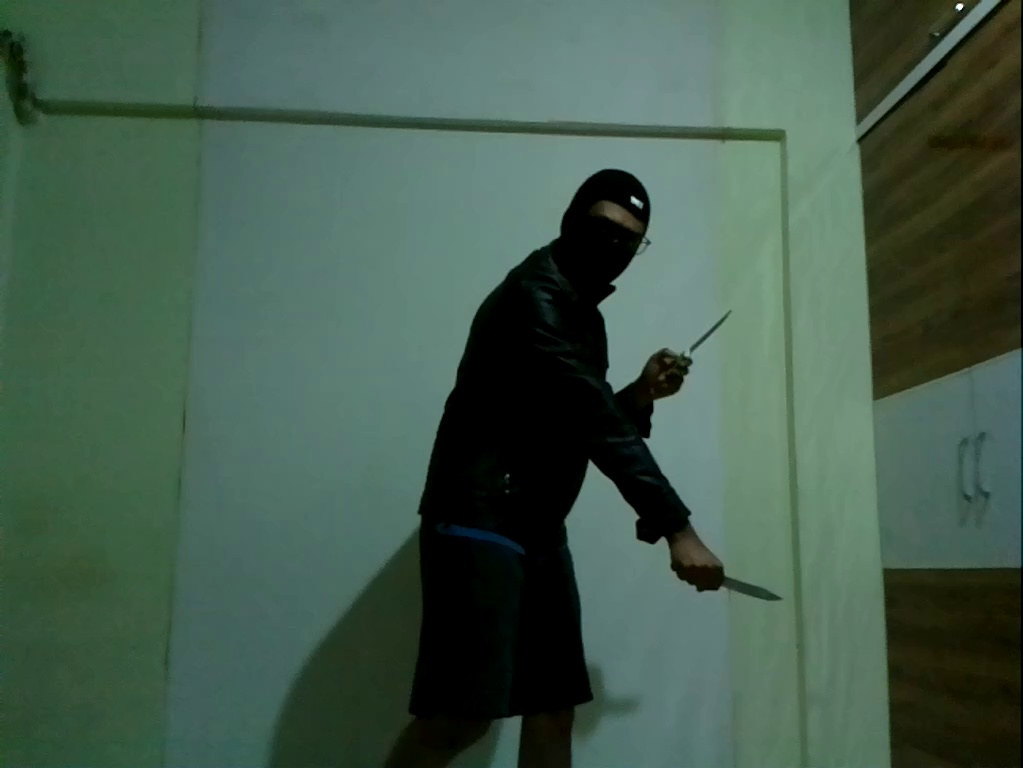knife: (708, 566, 786, 608)
